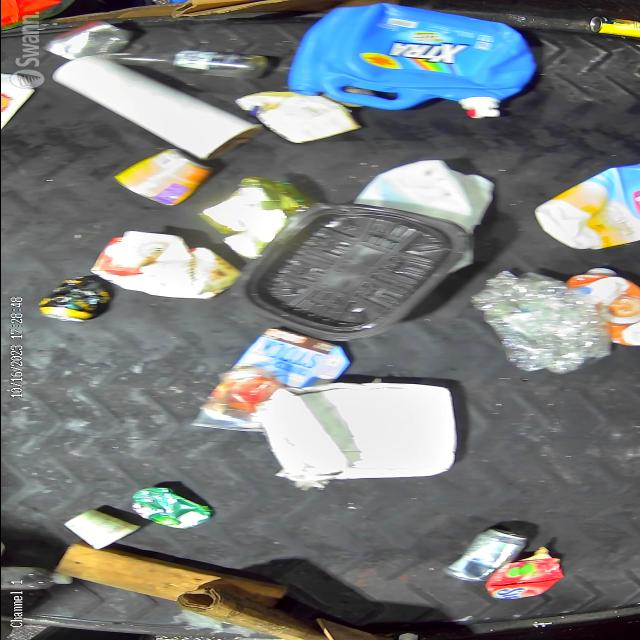can: (107, 147, 219, 205), (444, 516, 534, 582), (39, 267, 120, 325)
non_white_jug: (288, 0, 552, 118)
